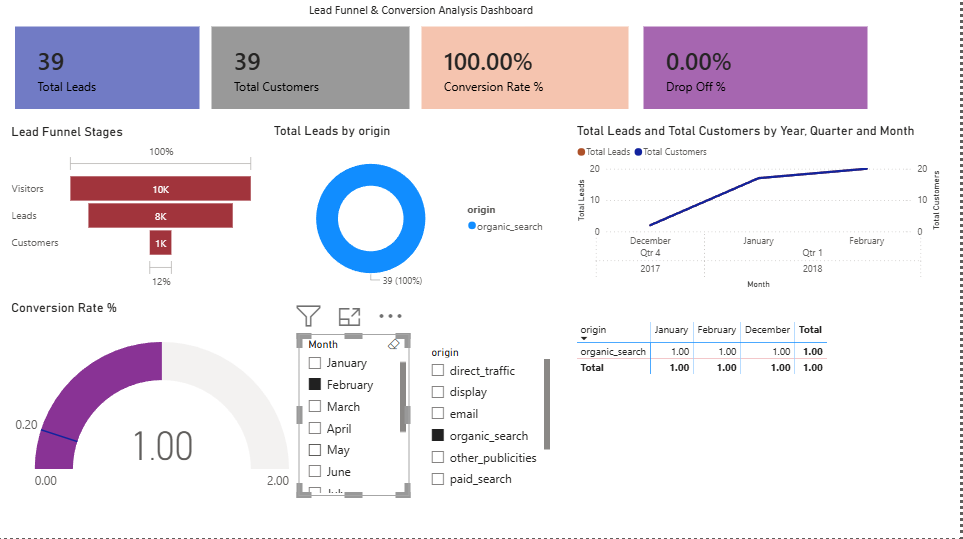

The page's visual inventory and layout, read from the dashboard file:
{"tool":"powerbi","page":{"name":"Page 1","canvas":[1280,720],"ordinal":0},"visuals":[{"type":"textbox","box":[378.6,0,368.6,35.7],"z":0},{"type":"cardVisual","fields":{"Data":["olist_marketing_qualified_leads.Total Leads"]},"box":[20,37.1,245.7,110],"z":1000},{"type":"cardVisual","fields":{"Data":["olist_marketing_qualified_leads.Total Customers"]},"box":[281.4,37.1,264.3,110],"z":2000},{"type":"cardVisual","fields":{"Data":["olist_marketing_qualified_leads.Conversion Rate %"]},"box":[562.9,37.1,275.7,110],"z":3000},{"type":"cardVisual","fields":{"Data":["olist_marketing_qualified_leads.Drop Off %"]},"box":[857.1,37.1,298.6,110],"z":4000},{"type":"funnel","title":"Lead Funnel Stages","fields":{"Category":["Table.Column1"],"Y":["Sum(Table.Column2)"]},"box":[10,168,334,224],"z":5000},{"type":"donutChart","fields":{"Y":["olist_marketing_qualified_leads.Total Leads"],"Category":["olist_marketing_qualified_leads.origin"]},"box":[360,166,378,236],"z":6000},{"type":"lineChart","fields":{"Category":["olist_marketing_qualified_leads.first_contact_date.Variation.Date Hierarchy.Year","olist_marketing_qualified_leads.first_contact_date.Variation.Date Hierarchy.Quarter","olist_marketing_qualified_leads.first_contact_date.Variation.Date Hierarchy.Month","olist_marketing_qualified_leads.first_contact_date.Variation.Date Hierarchy.Day"],"Y":["olist_marketing_qualified_leads.Total Leads"],"Y2":["olist_marketing_qualified_leads.Total Customers"]},"box":[764,166,494,226],"z":7000},{"type":"gauge","fields":{"Y":["olist_marketing_qualified_leads.Conversion Rate %"]},"box":[10,402,380,294],"z":8000},{"type":"slicer","fields":{"Values":["olist_closed_deals_dataset.won_date.Variation.Date Hierarchy.Month"]},"box":[398,448,148,216],"z":9000},{"type":"slicer","fields":{"Values":["olist_marketing_qualified_leads.origin"]},"box":[562,458,176,206],"z":10000},{"type":"pivotTable","fields":{"Rows":["olist_marketing_qualified_leads.origin"],"Columns":["olist_marketing_qualified_leads.first_contact_date.Variation.Date Hierarchy.Month"],"Values":["olist_marketing_qualified_leads.Conversion Rate %"]},"box":[764,426,494,294],"z":11000}]}

Visuals, with their boxes in screenshot pixels (x1, y1, x2, y2), scaled from the page's 1280x720 canvas onto the 963x539 screenshot:
textbox: pyautogui.locateOnScreen(285, 0, 562, 27)
cardVisual - olist_marketing_qualified_leads.Total Leads: pyautogui.locateOnScreen(15, 28, 200, 110)
cardVisual - olist_marketing_qualified_leads.Total Customers: pyautogui.locateOnScreen(212, 28, 411, 110)
cardVisual - olist_marketing_qualified_leads.Conversion Rate %: pyautogui.locateOnScreen(423, 28, 631, 110)
cardVisual - olist_marketing_qualified_leads.Drop Off %: pyautogui.locateOnScreen(645, 28, 869, 110)
"Lead Funnel Stages" funnel: pyautogui.locateOnScreen(8, 126, 259, 293)
donutChart - olist_marketing_qualified_leads.Total Leads x olist_marketing_qualified_leads.origin: pyautogui.locateOnScreen(271, 124, 555, 301)
lineChart - olist_marketing_qualified_leads.first_contact_date.Variation.Date Hierarchy.Year x olist_marketing_qualified_leads.first_contact_date.Variation.Date Hierarchy.Quarter: pyautogui.locateOnScreen(575, 124, 946, 293)
gauge - olist_marketing_qualified_leads.Conversion Rate %: pyautogui.locateOnScreen(8, 301, 293, 521)
slicer - olist_closed_deals_dataset.won_date.Variation.Date Hierarchy.Month: pyautogui.locateOnScreen(299, 335, 411, 497)
slicer - olist_marketing_qualified_leads.origin: pyautogui.locateOnScreen(423, 343, 555, 497)
pivotTable - olist_marketing_qualified_leads.origin x olist_marketing_qualified_leads.first_contact_date.Variation.Date Hierarchy.Month: pyautogui.locateOnScreen(575, 319, 946, 538)
